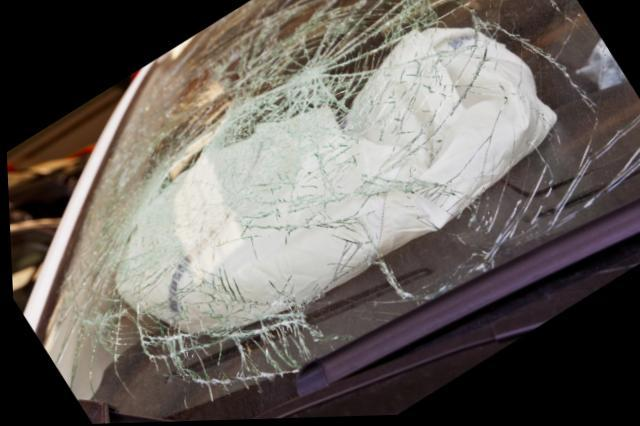glass shatter: (35, 0, 640, 422)
